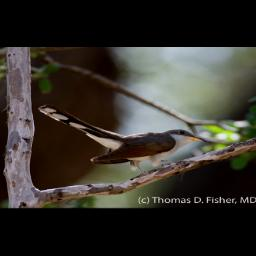Cuckoo: (36, 100, 211, 181)
